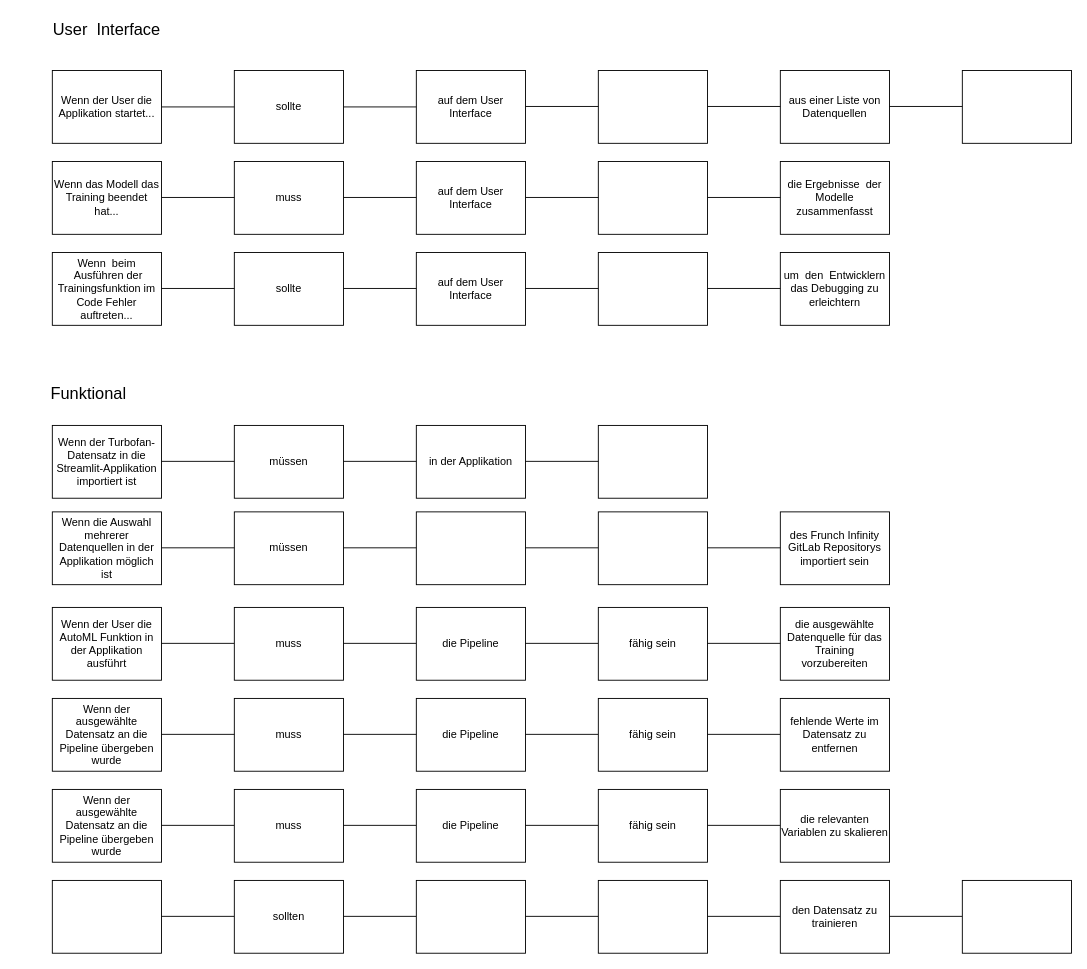
The diagram is 1087 pixels wide and 969 high, and some of its shapes have lost their labels. Each missing label, with the box of its shape:
die entsprechenden Datenquellen: (415, 511, 526, 585)
die Möglichekeit bestehen...: (597, 70, 708, 143)
die Möglichkeit bieten: (597, 880, 708, 953)
dieser Fehler dargestellt werden: (597, 252, 708, 325)
eine Tabelle darstellt werden: (597, 161, 708, 234)
einen Datensatz auszuwählen: (961, 70, 1072, 143)
in den data Ordner: (597, 511, 708, 585)
mehrere statistische Modelle: (415, 880, 526, 953)
sämtliche Variablen und Ausprägungen erkannt werden: (597, 425, 708, 498)
um die Trainingsergebnisse vergleichbar zu machen: (961, 880, 1072, 953)
Wenn die Pipeline das Preprocessing der Datenquelle abgeschlossen hat: (51, 880, 162, 953)
